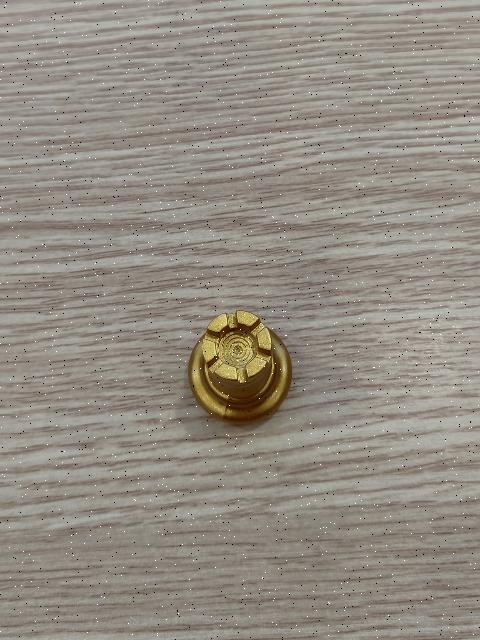black_rook: (185, 307, 294, 425)
